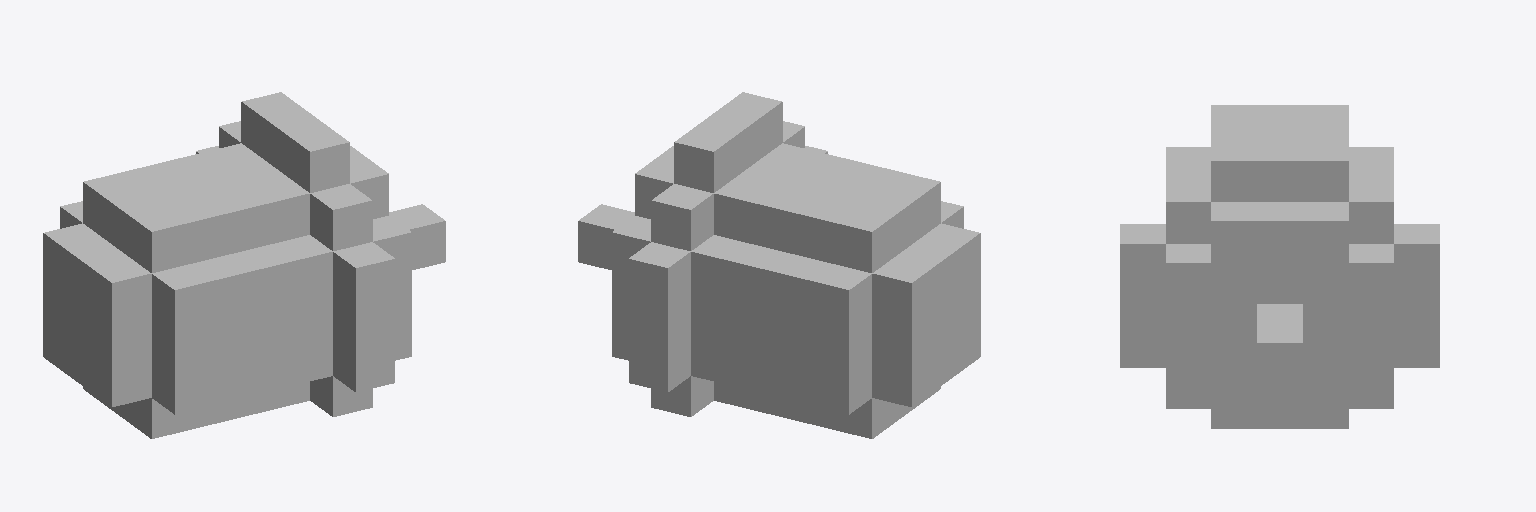
The model's file is big_acorn.obj.
3 views of the same model, side by side, from view 1: azimuth 30°, elevation 25°; view 2: azimuth 150°, elevation 25°; view 3: azimuth 270°, elevation 25° (orthographic).
Parts seen in each view (by area): view 1: model.003; view 2: model.003; view 3: model.003.
Boxes of the visible parts, x1=… form: model.003: x1=43, y1=92, x2=445, y2=438; model.003: x1=578, y1=92, x2=980, y2=438; model.003: x1=1120, y1=105, x2=1439, y2=428.
Bounding box in the file's own units: 0.5625 × 0.375 × 0.4375.